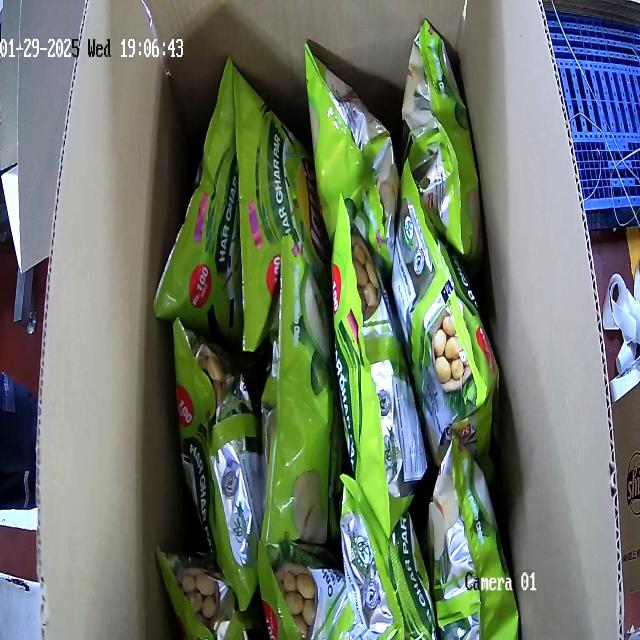YOGURT_HERB: (152, 22, 520, 638)
